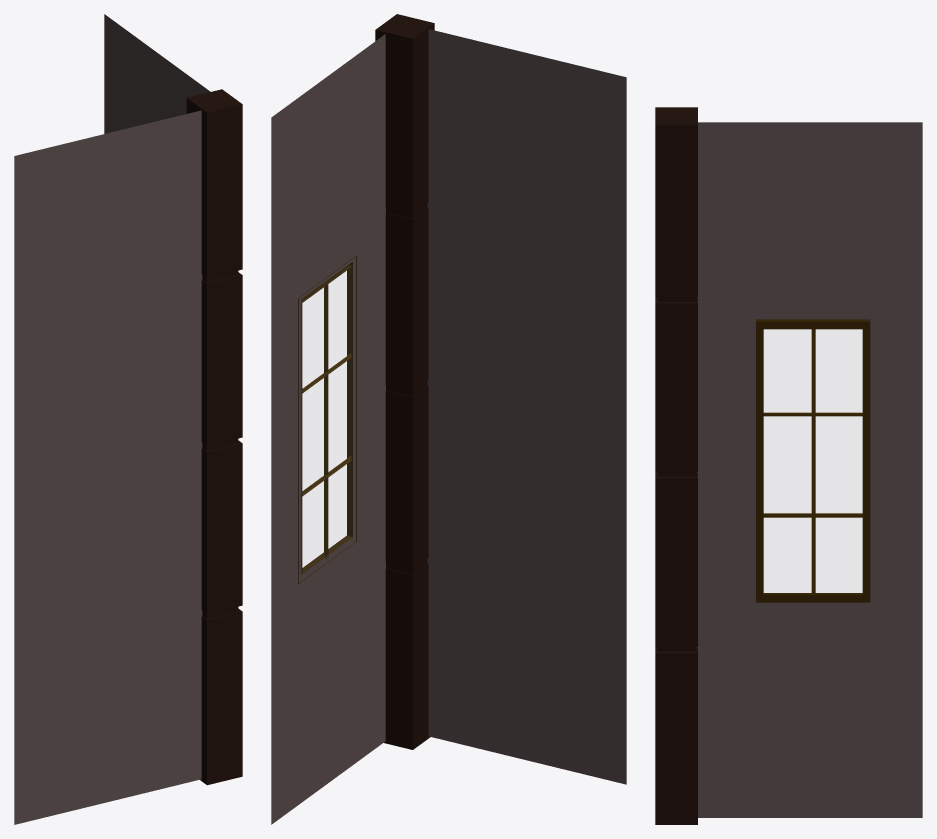
Rendered from Pared_Esquina_02.fbx.
3 renders of one model, left to right at view 1: azimuth 30°, elevation 25°; view 2: azimuth 150°, elevation 25°; view 3: azimuth 270°, elevation 25°, orthographic. The views are drawn at different scales.
Parts seen in each view (by area): view 1: polySurface35, Esquina_Pared_011; view 2: polySurface35, Esquina_Pared_011, Marco_01_Edif_02, Barrote_Vent_01_Edif_02; view 3: polySurface35, Esquina_Pared_011, Marco_01_Edif_02, Barrote_Vent_01_Edif_02.
Boxes of the visible parts, box(x1,y1,x2,y2) form: polySurface35: box(14, 14, 210, 824); Esquina_Pared_011: box(186, 89, 242, 785); polySurface35: box(271, 29, 626, 824); Esquina_Pared_011: box(375, 14, 434, 749); Marco_01_Edif_02: box(298, 256, 356, 584); Barrote_Vent_01_Edif_02: box(301, 283, 352, 558); polySurface35: box(697, 122, 922, 817); Esquina_Pared_011: box(655, 107, 697, 824); Marco_01_Edif_02: box(756, 319, 870, 602); Barrote_Vent_01_Edif_02: box(763, 329, 862, 593).
Bounding box in the file's own units: 6.27 × 18.09 × 6.27.
